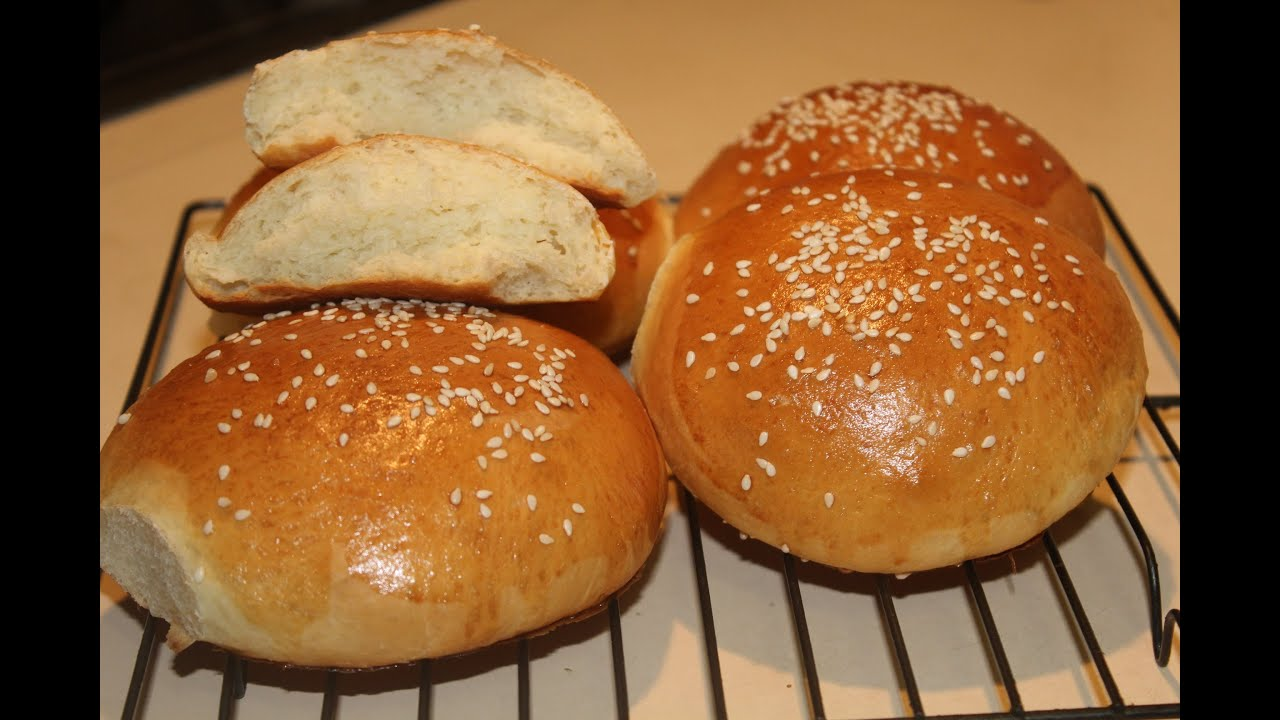hamburger_buns: (29, 245, 786, 712), (627, 77, 1179, 595), (151, 23, 688, 356)
